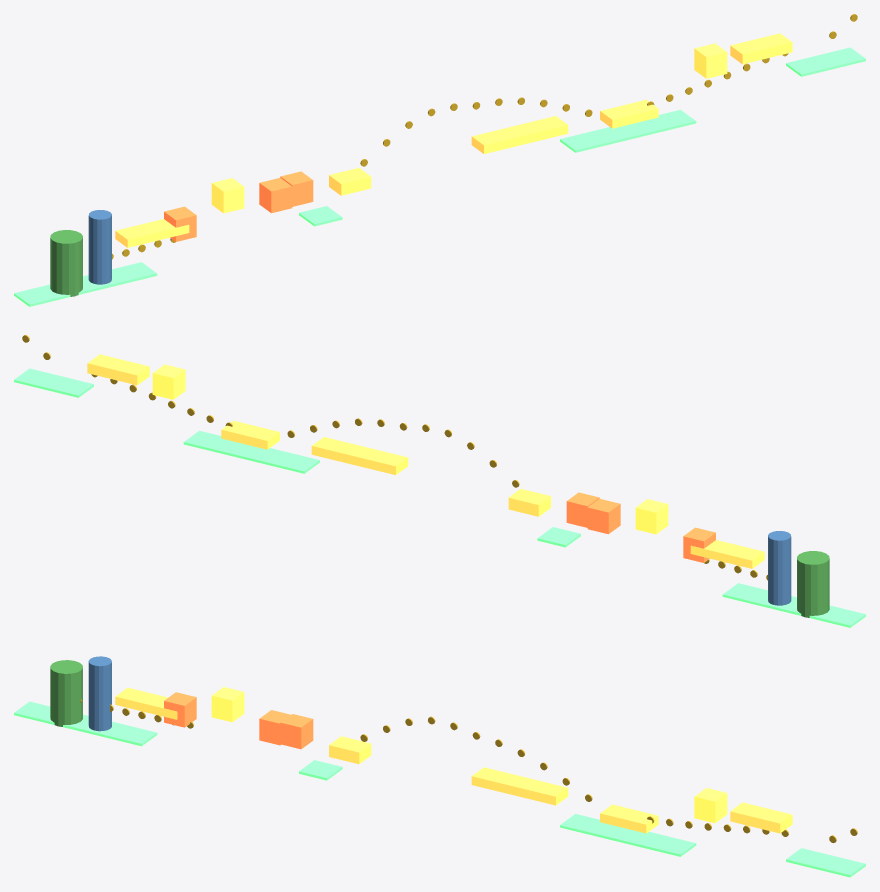
File: mw_opening_neutral_guide.glb
3 renders of one model, top to bottom at view 1: azimuth 30°, elevation 25°; view 2: azimuth 150°, elevation 25°; view 3: azimuth 330°, elevation 25°, orthographic.
Visible parts, largest first — view 1: GUIDE_SafeLanding_root-return-breath, GUIDE_Hargold_Mannequin, GUIDE_Platform_fallen-log-launch, GUIDE_Mebble_Mannequin, GUIDE_SafeLanding_spawn-meadow-safe, GUIDE_Platform_mason-shelf-overlook, GUIDE_Platform_camp-awning-deck, GUIDE_SafeLanding_slice-exit-breath, GUIDE_Platform_fallen-log-landing, GUIDE_Block_power-before-first-encounter, GUIDE_Block_opening-raised-coin, GUIDE_Block_opening-pair-a (+3 smaller); view 2: GUIDE_SafeLanding_root-return-breath, GUIDE_Hargold_Mannequin, GUIDE_Platform_fallen-log-launch, GUIDE_Mebble_Mannequin, GUIDE_SafeLanding_spawn-meadow-safe, GUIDE_Platform_mason-shelf-overlook, GUIDE_Platform_camp-awning-deck, GUIDE_SafeLanding_slice-exit-breath, GUIDE_Platform_fallen-log-landing, GUIDE_Block_power-before-first-encounter, GUIDE_Block_opening-raised-coin, GUIDE_Block_opening-pair-a (+3 smaller); view 3: GUIDE_SafeLanding_root-return-breath, GUIDE_Hargold_Mannequin, GUIDE_Platform_fallen-log-launch, GUIDE_Mebble_Mannequin, GUIDE_SafeLanding_spawn-meadow-safe, GUIDE_Platform_mason-shelf-overlook, GUIDE_SafeLanding_slice-exit-breath, GUIDE_Platform_fallen-log-landing, GUIDE_Platform_camp-awning-deck, GUIDE_Block_opening-pair-b, GUIDE_Block_power-before-first-encounter, GUIDE_Block_opening-raised-coin (+4 smaller).
Boxes of the visible parts, bbox=[...] form: GUIDE_SafeLanding_root-return-breath: bbox=[560, 109, 696, 152]; GUIDE_Hargold_Mannequin: bbox=[50, 230, 82, 296]; GUIDE_Platform_fallen-log-launch: bbox=[471, 116, 568, 153]; GUIDE_Mebble_Mannequin: bbox=[88, 210, 111, 284]; GUIDE_SafeLanding_spawn-meadow-safe: bbox=[14, 262, 157, 306]; GUIDE_Platform_mason-shelf-overlook: bbox=[730, 33, 792, 64]; GUIDE_Platform_camp-awning-deck: bbox=[115, 219, 189, 247]; GUIDE_SafeLanding_slice-exit-breath: bbox=[786, 47, 865, 76]; GUIDE_Platform_fallen-log-landing: bbox=[600, 99, 658, 128]; GUIDE_Block_power-before-first-encounter: bbox=[694, 43, 727, 78]; GUIDE_Block_opening-raised-coin: bbox=[211, 178, 244, 213]; GUIDE_Block_opening-pair-a: bbox=[259, 178, 292, 213]; GUIDE_SafeLanding_root-return-breath: bbox=[183, 430, 319, 473]; GUIDE_Hargold_Mannequin: bbox=[797, 551, 829, 617]; GUIDE_Platform_fallen-log-launch: bbox=[311, 437, 408, 474]; GUIDE_Mebble_Mannequin: bbox=[768, 531, 791, 605]; GUIDE_SafeLanding_spawn-meadow-safe: bbox=[722, 583, 865, 627]; GUIDE_Platform_mason-shelf-overlook: bbox=[87, 354, 149, 385]; GUIDE_Platform_camp-awning-deck: bbox=[690, 540, 764, 568]; GUIDE_SafeLanding_slice-exit-breath: bbox=[14, 368, 93, 397]; GUIDE_Platform_fallen-log-landing: bbox=[221, 420, 279, 449]; GUIDE_Block_power-before-first-encounter: bbox=[152, 364, 185, 399]; GUIDE_Block_opening-raised-coin: bbox=[635, 499, 668, 534]; GUIDE_Block_opening-pair-a: bbox=[587, 499, 620, 534]; GUIDE_SafeLanding_root-return-breath: bbox=[560, 814, 696, 856]; GUIDE_Hargold_Mannequin: bbox=[50, 660, 82, 726]; GUIDE_Platform_fallen-log-launch: bbox=[471, 767, 568, 805]; GUIDE_Mebble_Mannequin: bbox=[88, 656, 111, 731]; GUIDE_SafeLanding_spawn-meadow-safe: bbox=[14, 701, 157, 746]; GUIDE_Platform_mason-shelf-overlook: bbox=[730, 802, 792, 833]; GUIDE_SafeLanding_slice-exit-breath: bbox=[786, 848, 865, 877]; GUIDE_Platform_fallen-log-landing: bbox=[600, 804, 658, 833]; GUIDE_Platform_camp-awning-deck: bbox=[115, 687, 177, 719]; GUIDE_Block_opening-pair-b: bbox=[280, 714, 313, 749]; GUIDE_Block_power-before-first-encounter: bbox=[694, 788, 727, 823]; GUIDE_Block_opening-raised-coin: bbox=[211, 687, 244, 722].
Size of what is drawn, in the model's own units: 29.8 by 3.15 by 1.02.
